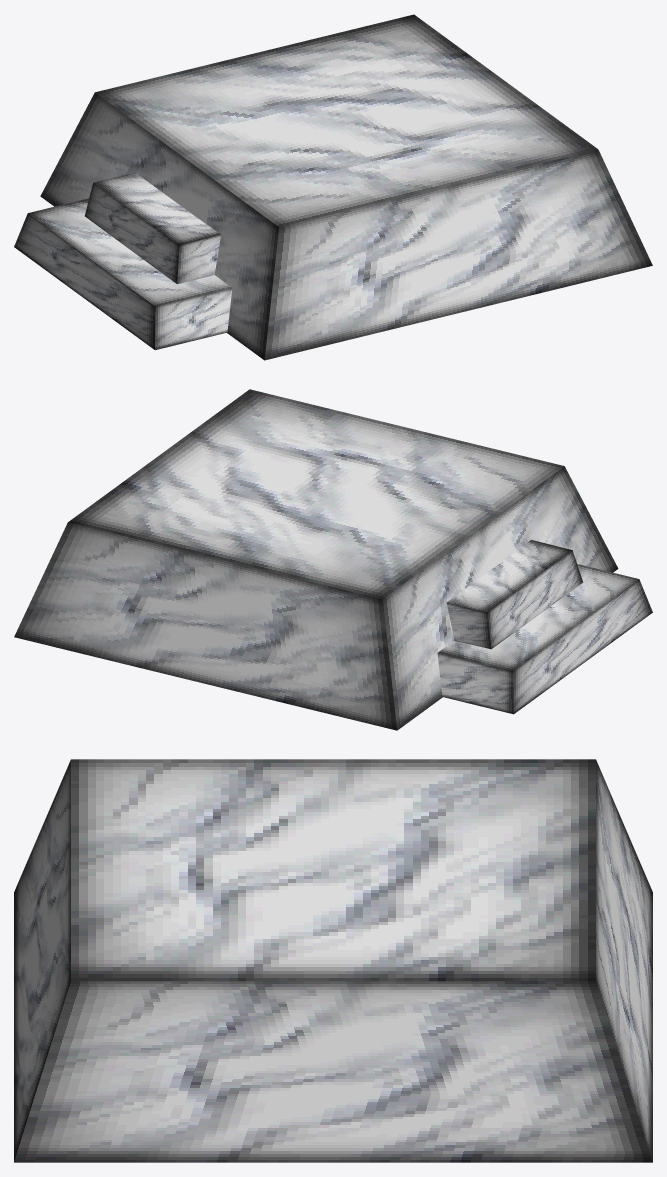
File: Pavillion_2403.glb
3 renders of one model, top to bottom at view 1: azimuth 30°, elevation 25°; view 2: azimuth 150°, elevation 25°; view 3: azimuth 270°, elevation 25°, orthographic. The views are drawn at different scales.
Parts seen in each view (by area): view 1: pPlaneShape2, pPlaneShape6, pPlaneShape5, pPlaneShape73, pPlaneShape71, pPlaneShape77, pPlaneShape75, pPlaneShape74, pPlaneShape76; view 2: pPlaneShape2, pPlaneShape4, pPlaneShape5, pPlaneShape73, pPlaneShape71, pPlaneShape77, pPlaneShape75, pPlaneShape72, pPlaneShape78; view 3: pPlaneShape2, pPlaneShape3, pPlaneShape4, pPlaneShape6.
Boxes of the visible parts, box(x1,y1,x2,y2) form: pPlaneShape2: box(95, 14, 597, 227); pPlaneShape6: box(264, 149, 652, 360); pPlaneShape5: box(40, 92, 278, 360); pPlaneShape73: box(14, 213, 155, 349); pPlaneShape71: box(28, 198, 231, 306); pPlaneShape77: box(85, 183, 179, 283); pPlaneShape75: box(93, 172, 220, 245); pPlaneShape74: box(155, 288, 232, 350); pPlaneShape76: box(177, 235, 220, 283); pPlaneShape2: box(68, 389, 564, 598); pPlaneShape4: box(14, 522, 397, 730); pPlaneShape5: box(383, 466, 618, 730); pPlaneShape73: box(513, 579, 652, 713); pPlaneShape71: box(438, 564, 638, 671); pPlaneShape77: box(488, 550, 583, 648); pPlaneShape75: box(447, 540, 572, 612); pPlaneShape72: box(437, 653, 513, 714); pPlaneShape78: box(446, 602, 491, 648); pPlaneShape2: box(71, 759, 595, 981); pPlaneShape3: box(14, 981, 652, 1162); pPlaneShape4: box(596, 760, 652, 1161); pPlaneShape6: box(14, 760, 70, 1161).
Bounding box in the file's own units: 0.6157 × 0.1408 × 0.5192.
Materials: 13 (13 with a texture image).
